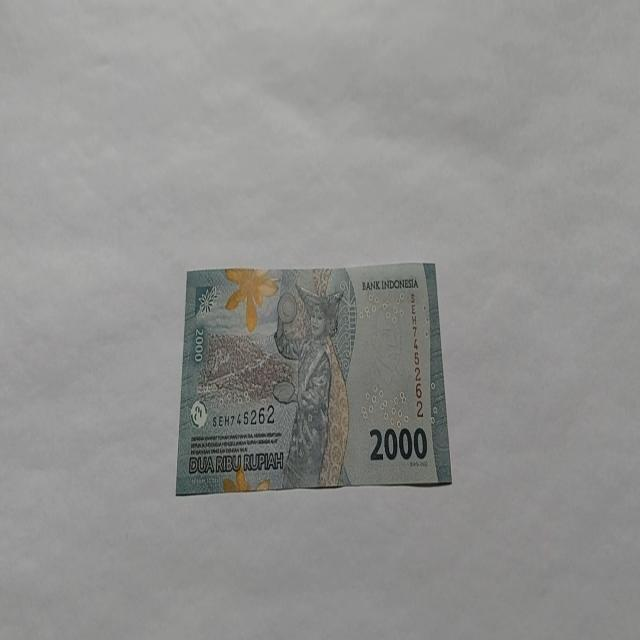dua ribu rupiah: (175, 260, 452, 494), (272, 281, 351, 489)
